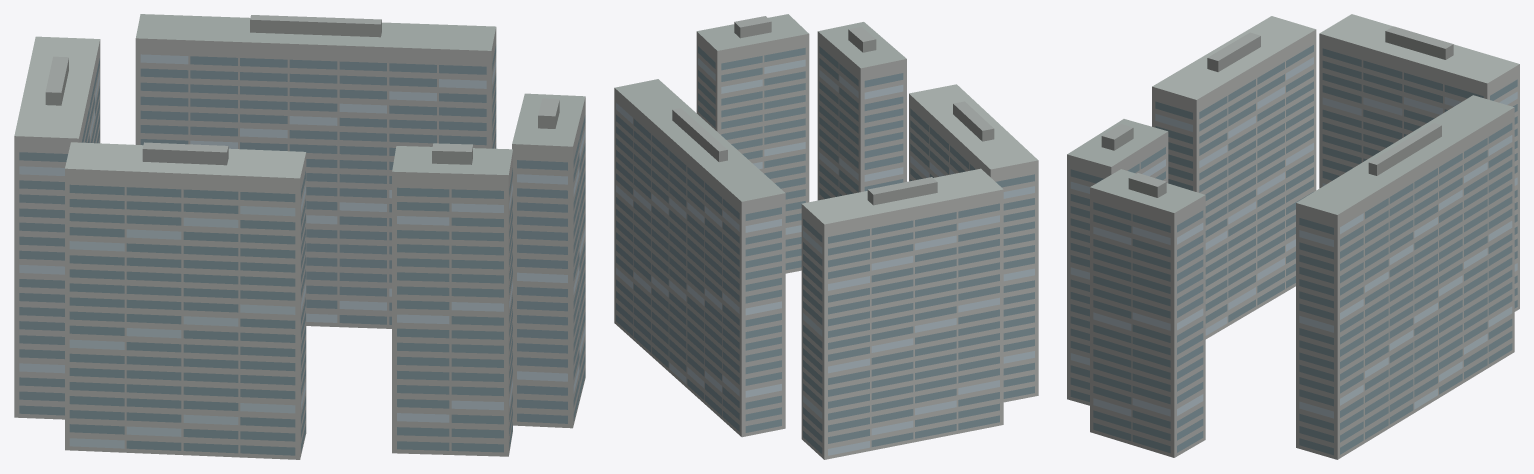
Rendered from apt-a15005301.glb.
3 views of the same model, side by side, from view 1: azimuth 30°, elevation 25°; view 2: azimuth 150°, elevation 25°; view 3: azimuth 270°, elevation 25° (orthographic). The views are drawn at different scales.
Parts seen in each view (by area): view 1: apt-a15005301; view 2: apt-a15005301; view 3: apt-a15005301.
Boxes of the visible parts, box(x1,y1,x2,y2) form: apt-a15005301: box(14, 14, 585, 459); apt-a15005301: box(614, 14, 1038, 459); apt-a15005301: box(1067, 14, 1519, 459).
Bounding box in the file's own units: 92.61 × 55 × 88.13.
